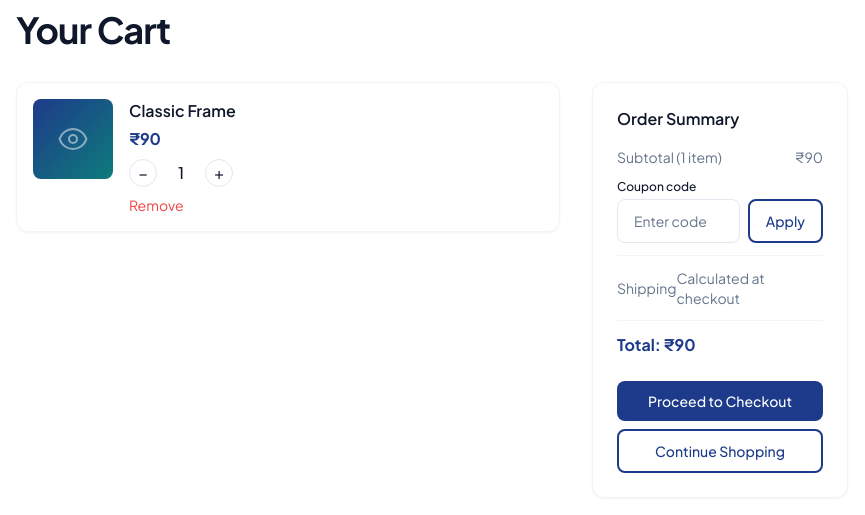
Scenario: CartPage › quantity stepper › increments the quantity and the order total
Click the button named "increase quantity" at (219, 173), box [205,159,233,187]
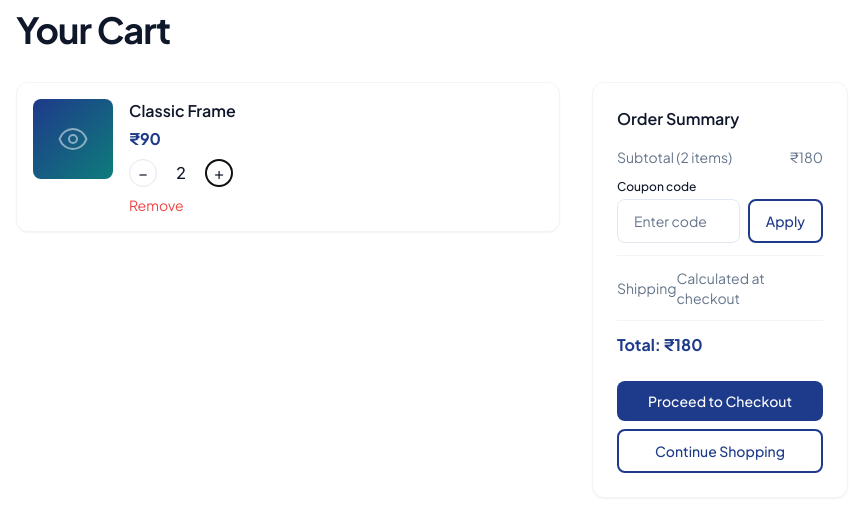
Expected: the text "2" is shown, [176,162,186,183]
